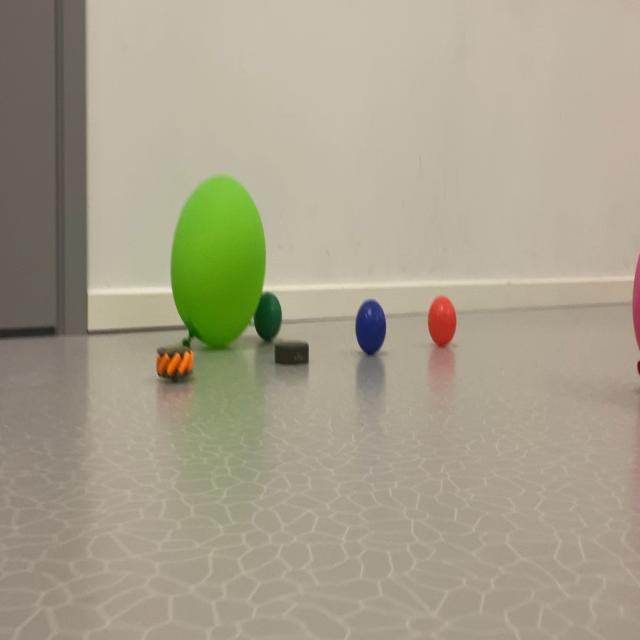7: (417, 288, 466, 365)
green ball: (342, 290, 394, 378)
red ball: (249, 288, 294, 347)
